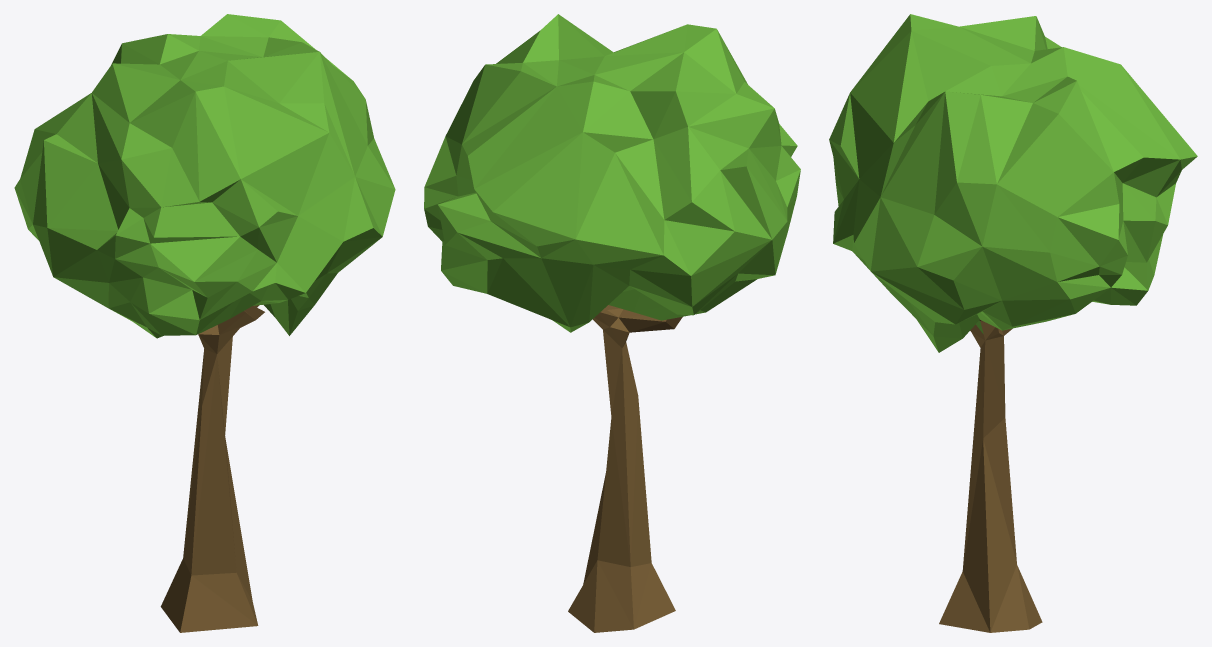
The model's file is baum_01.fbx.
3 views of the same model, side by side, from view 1: azimuth 30°, elevation 25°; view 2: azimuth 150°, elevation 25°; view 3: azimuth 270°, elevation 25° (orthographic).
Visible parts, largest first — view 1: bush_01, Cube; view 2: bush_01, Cube; view 3: bush_01, Cube.
Boxes of the visible parts, box(x1,y1,x2,y2) form: bush_01: box(14, 14, 395, 338); Cube: box(160, 305, 264, 632); bush_01: box(424, 14, 800, 332); Cube: box(568, 305, 682, 632); bush_01: box(829, 14, 1197, 352); Cube: box(939, 319, 1042, 632).
Size of the model in its own units: 571 by 962 by 555.
